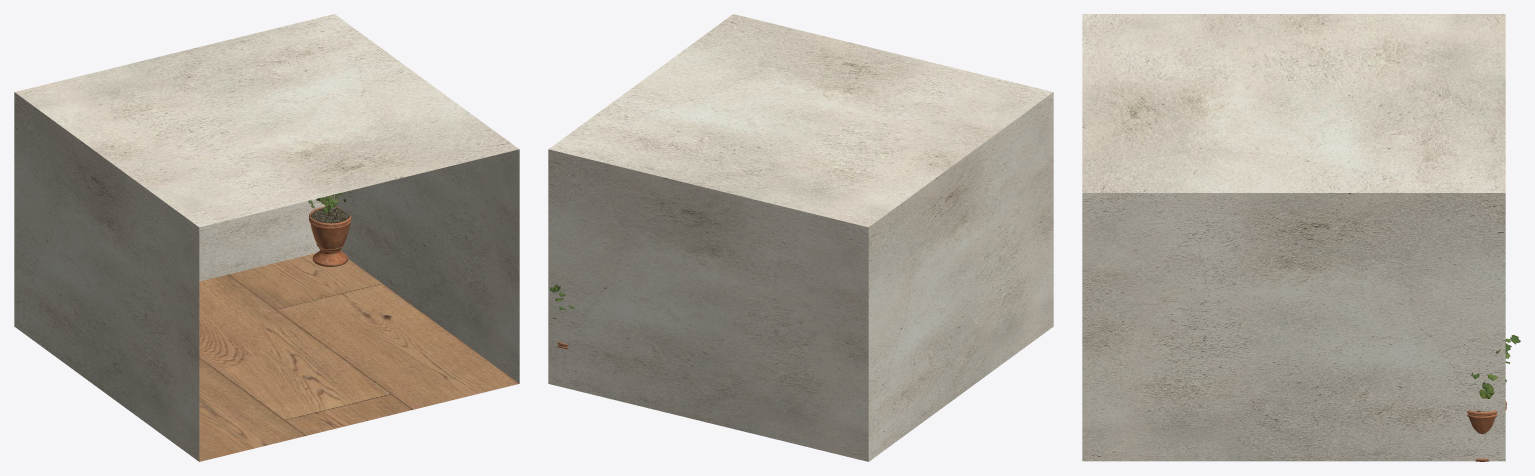
File: room.glb
The picture shows the model from 3 angles, left to right: view 1: azimuth 30°, elevation 25°; view 2: azimuth 150°, elevation 25°; view 3: azimuth 270°, elevation 25°; orthographic projection. The views are drawn at different scales.
Visible parts, largest first — view 1: Ceiling, RightWall, Floor, LeftWall, BackWall, potted_plant_01_pot; view 2: BackWall, Ceiling, RightWall; view 3: LeftWall, Ceiling, potted_plant_01_pot, potted_plant_01_leaves.
Part boxes in pixels (box(x1,y1,x2,y2)): Ceiling: box(15, 14, 518, 227); RightWall: box(14, 92, 199, 461); Floor: box(199, 253, 518, 461); LeftWall: box(334, 149, 519, 383); BackWall: box(199, 195, 334, 281); potted_plant_01_pot: box(309, 206, 351, 266); BackWall: box(548, 149, 868, 461); Ceiling: box(549, 14, 1052, 227); RightWall: box(868, 92, 1053, 461); LeftWall: box(1082, 193, 1505, 461); Ceiling: box(1082, 14, 1505, 192); potted_plant_01_pot: box(1467, 401, 1506, 461); potted_plant_01_leaves: box(1470, 335, 1520, 398).
Bounding box in the file's own units: 4.07 × 2.8 × 4.14.
10 materials, 9 textured.
